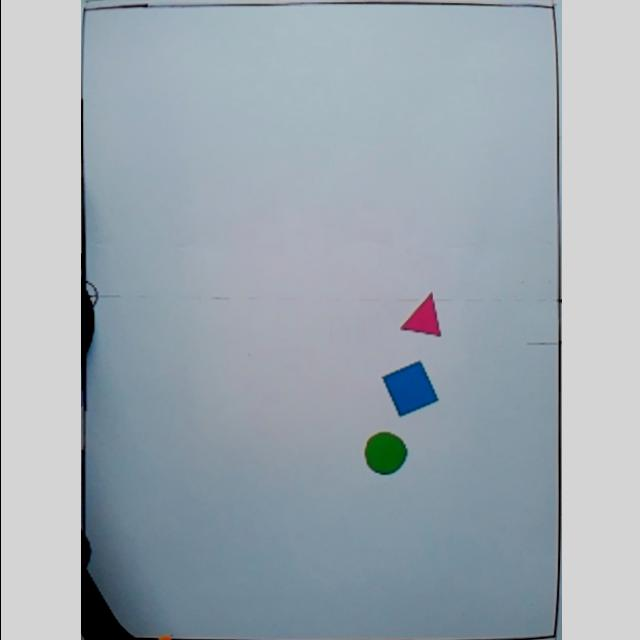blueSquare: (378, 358, 438, 418)
greenCircle: (359, 430, 406, 476)
pinkTriangle: (394, 292, 442, 340)
